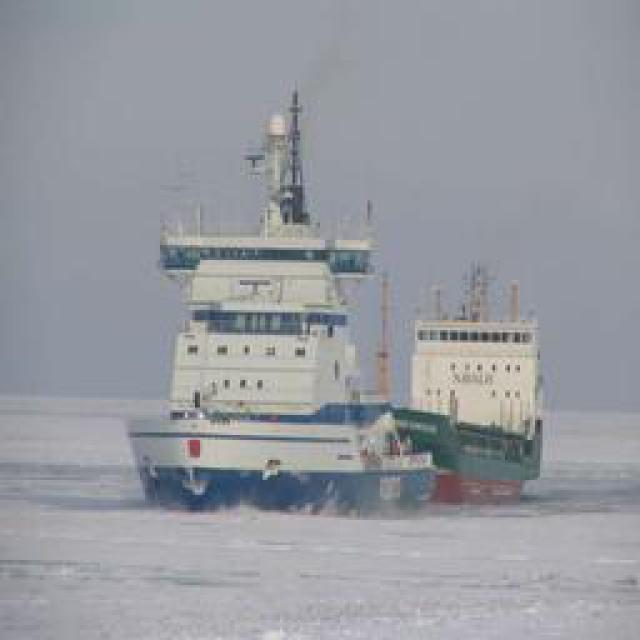Ship: (115, 216, 543, 521)
